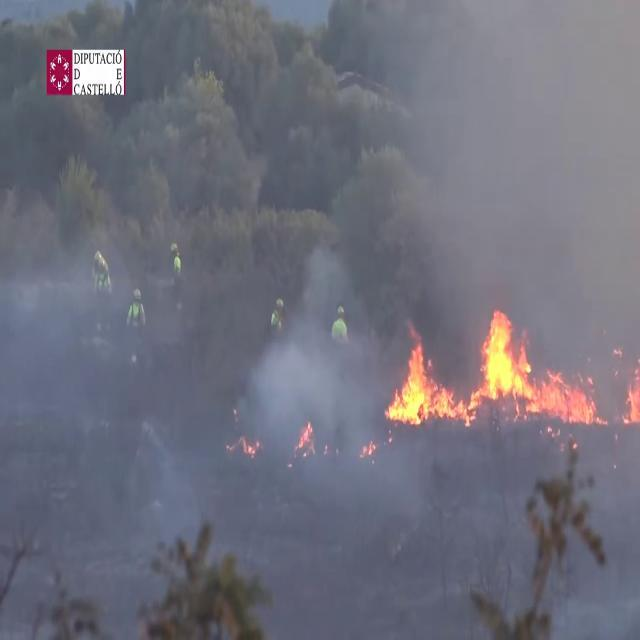Fire: (479, 308, 599, 424), (384, 341, 476, 428), (623, 352, 640, 427), (296, 416, 316, 457)
Smoke: (252, 1, 639, 424)
